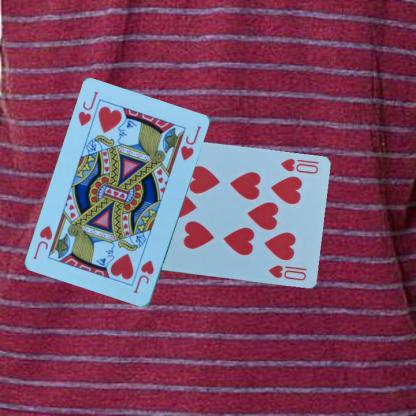10h: (278, 156, 319, 176)
Jh: (131, 258, 156, 295), (76, 89, 99, 128)
